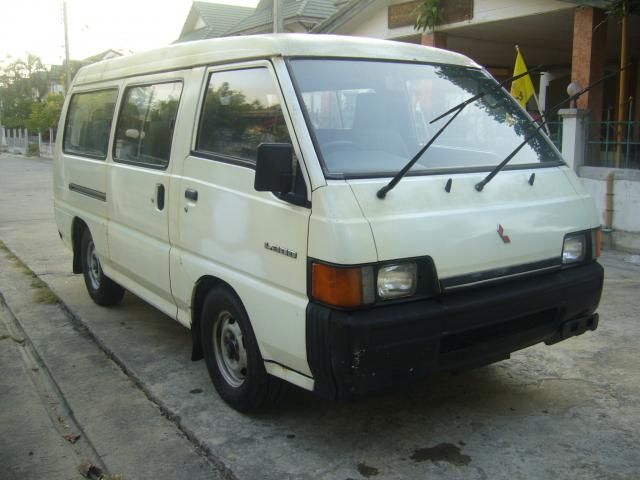van: (51, 32, 606, 415)
